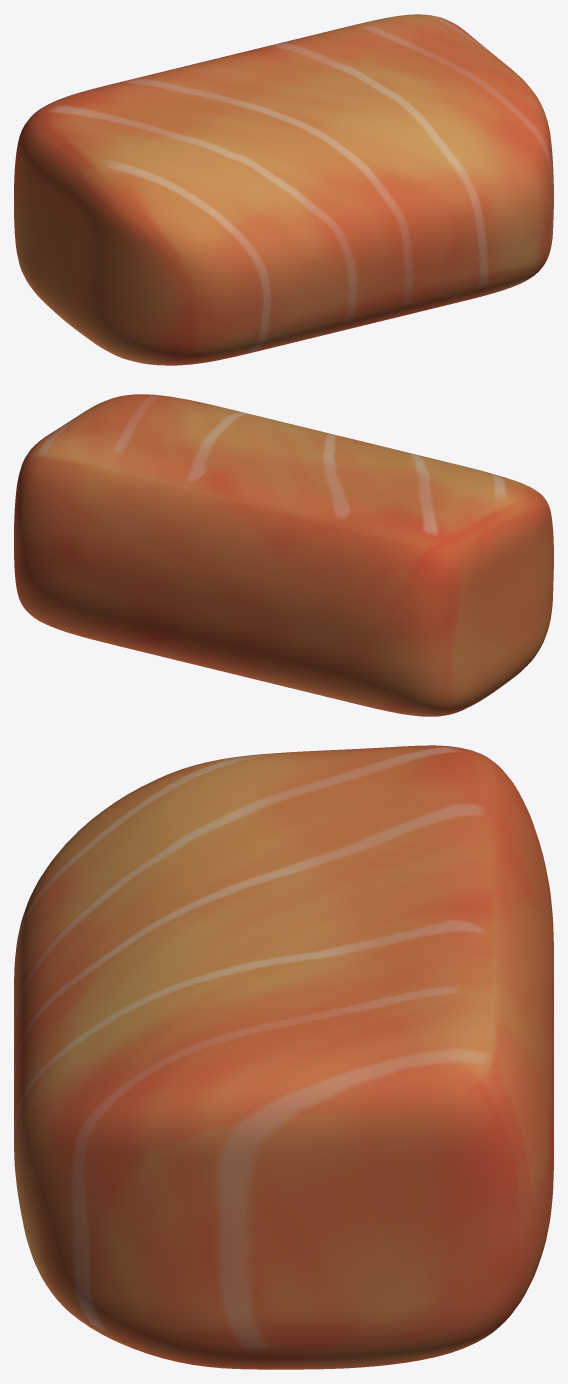
File: SalmonCut.fbx
3 renders of one model, top to bottom at view 1: azimuth 30°, elevation 25°; view 2: azimuth 150°, elevation 25°; view 3: azimuth 270°, elevation 25°, orthographic. The views are drawn at different scales.
Parts seen in each view (by area): view 1: SM_SalmonCut; view 2: SM_SalmonCut; view 3: SM_SalmonCut.
Boxes of the visible parts, left/top/right/bottom form: SM_SalmonCut: left=14, top=14, right=553, bottom=365; SM_SalmonCut: left=14, top=394, right=553, bottom=716; SM_SalmonCut: left=14, top=745, right=553, bottom=1369.
Bounding box in the file's own units: 42.4 × 18.78 × 27.35.
